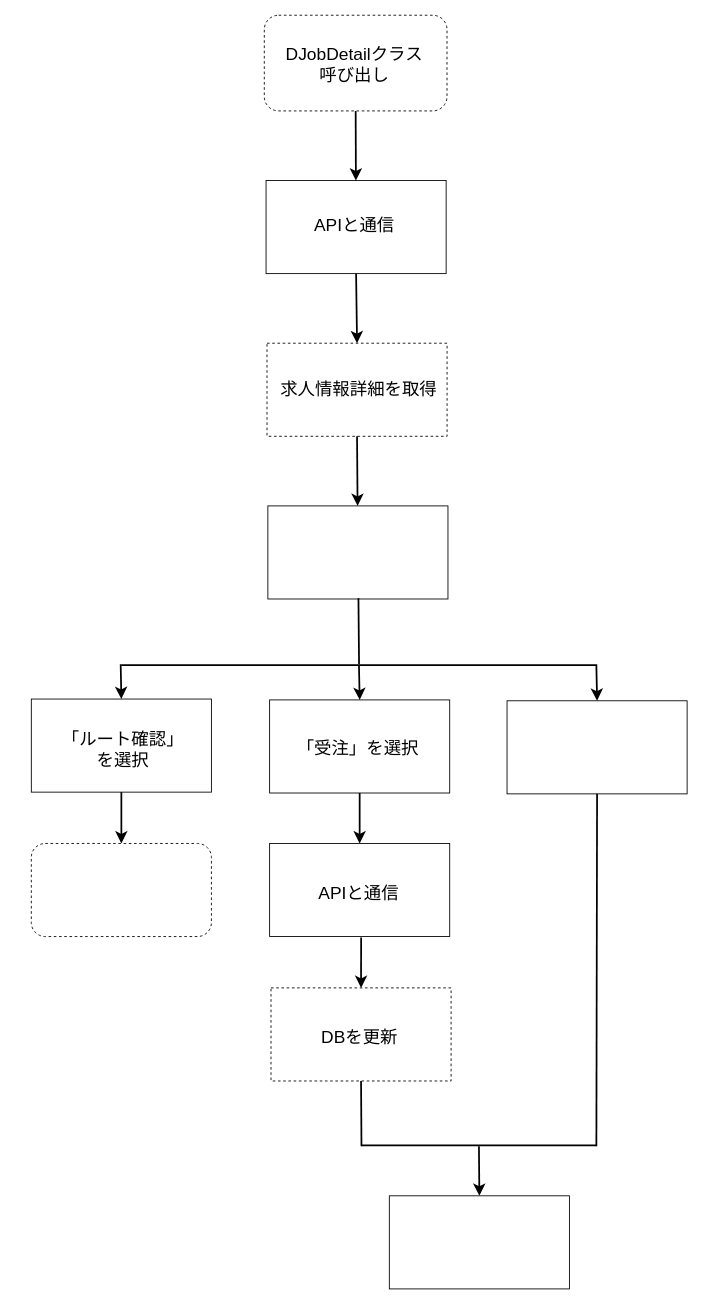
Some shapes in this 720 by 1304 pixel diagram are drawn without their labels. Here are the shapes that lost their labels. From the top down, the box of each, then its label:
(267, 505, 448, 599): 求人情報画面を 表示
(506, 700, 687, 794): 「戻る」を選択
(30, 843, 211, 937): DMapクラス を呼び出し
(388, 1195, 569, 1289): 1つ前のパスに 戻る
